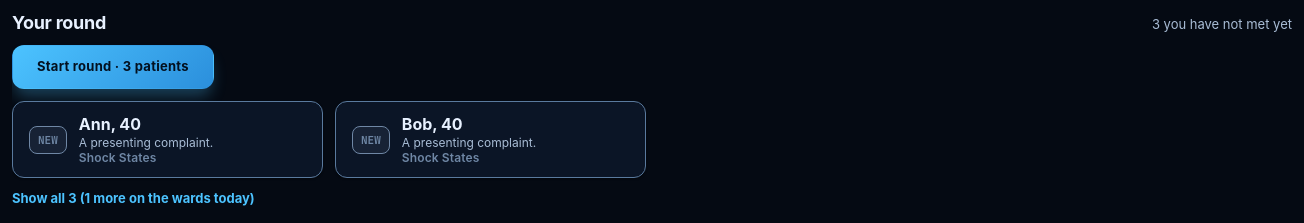
Test case: RoundBoard › shows today’s slice with the rest one press away
Check: the link "NEW Ann, 40 A presenting complaint. Shock States" is shown, box [12,101,323,178]
Check: the link "Cat" is not shown
What coordinates should you click on to do the following:
click the button "Show all 3 (1 more on the wards today)"
I would click on:
 (133, 198)
Its box is [12,190,255,206].
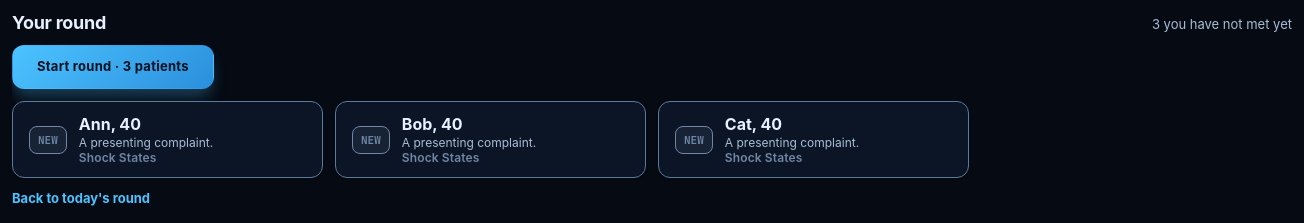
Check: the link "NEW Cat, 40 A presenting complaint. Shock States" is shown, box [658,101,969,178]
What coordinates should you click on to do the following:
click the button "Back to today's round"
I would click on:
 (81, 198)
Its box is [12,190,150,206].
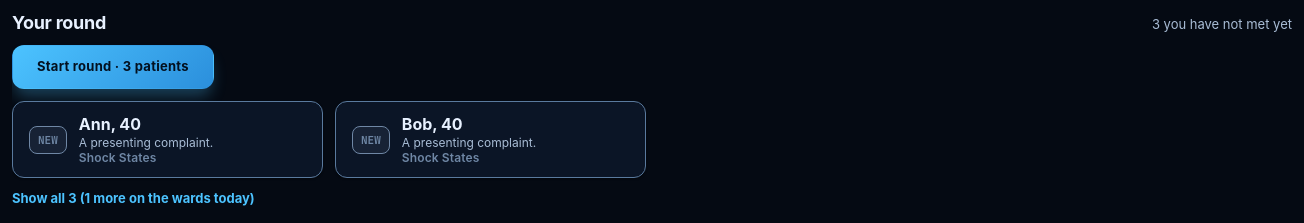
Check: the link "Cat" is gone
